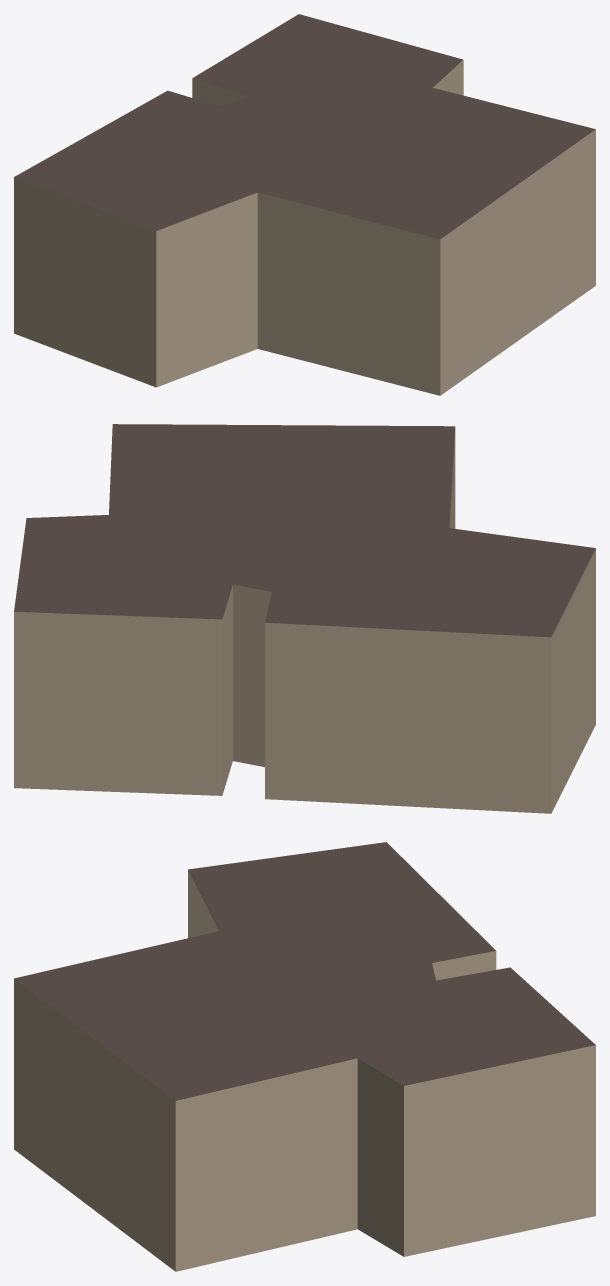
3 views of the same model, one above another, from view 1: azimuth 30°, elevation 25°; view 2: azimuth 150°, elevation 25°; view 3: azimuth 270°, elevation 25° (orthographic). The views are drawn at different scales.
Visible parts, largest first — view 1: HP-w1516161955; view 2: HP-w1516161955; view 3: HP-w1516161955.
Part boxes in pixels (bbox=[...]): HP-w1516161955: bbox=[14, 14, 595, 395]; HP-w1516161955: bbox=[14, 424, 595, 813]; HP-w1516161955: bbox=[14, 842, 595, 1271].
Size of the model in its own units: 29.22 by 9 by 27.76.
